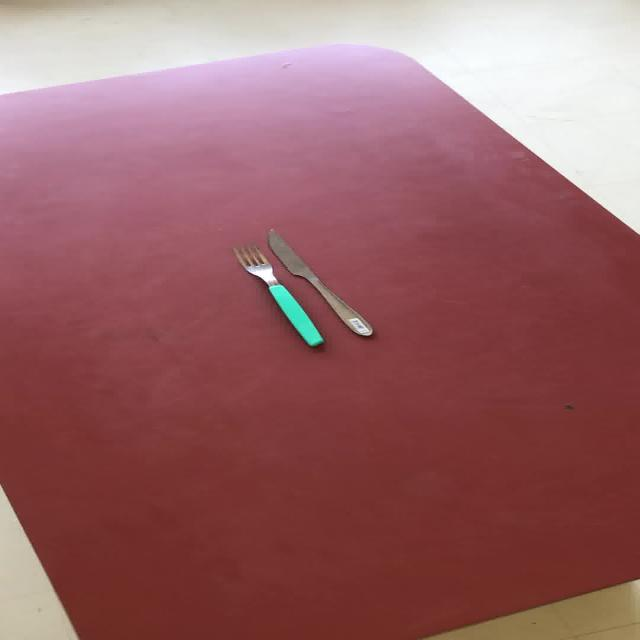fork: (230, 244, 323, 347)
knife fork: (265, 228, 373, 336)
